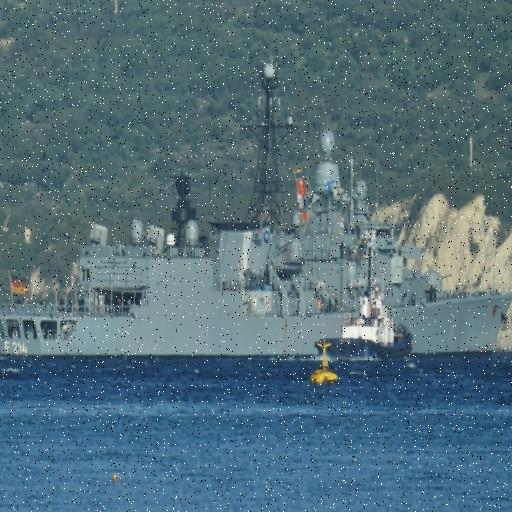Fragata: (1, 64, 512, 365)
